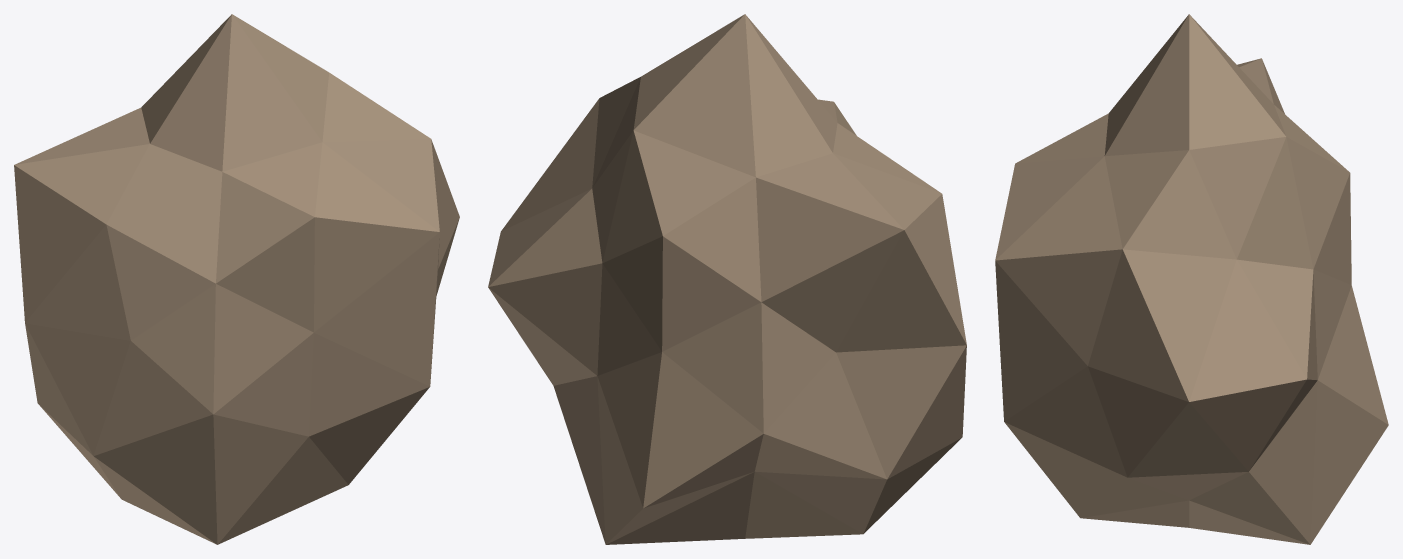
The model's file is boulder-c.glb.
3 renders of one model, left to right at view 1: azimuth 30°, elevation 25°; view 2: azimuth 150°, elevation 25°; view 3: azimuth 270°, elevation 25°, orthographic. The views are drawn at different scales.
Visible parts, largest first — view 1: rock; view 2: rock; view 3: rock.
Part boxes in pixels (x1,y1,x2,y2): rock: (14, 14, 459, 544); rock: (488, 14, 966, 544); rock: (995, 14, 1388, 544).
Bounding box in the file's own units: 6.46 × 6.96 × 4.83.
